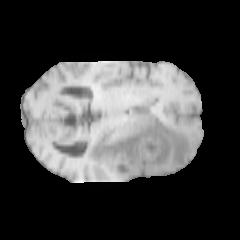glioma: (87, 112, 192, 175)
